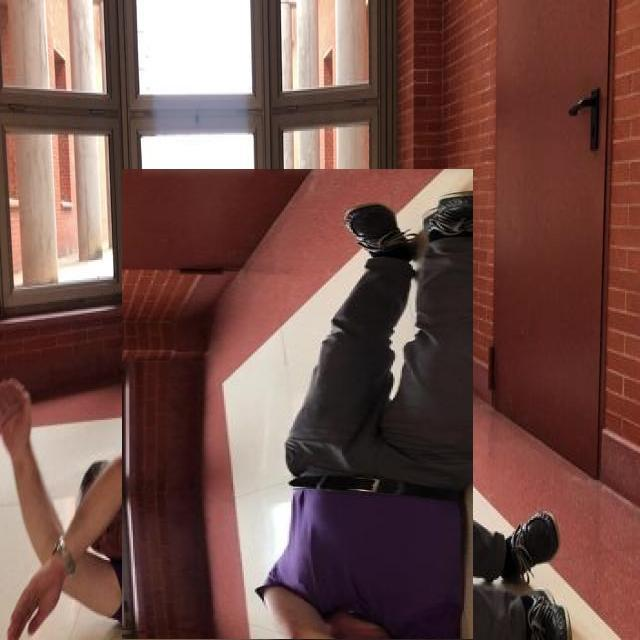Fall: (208, 262, 526, 640)
